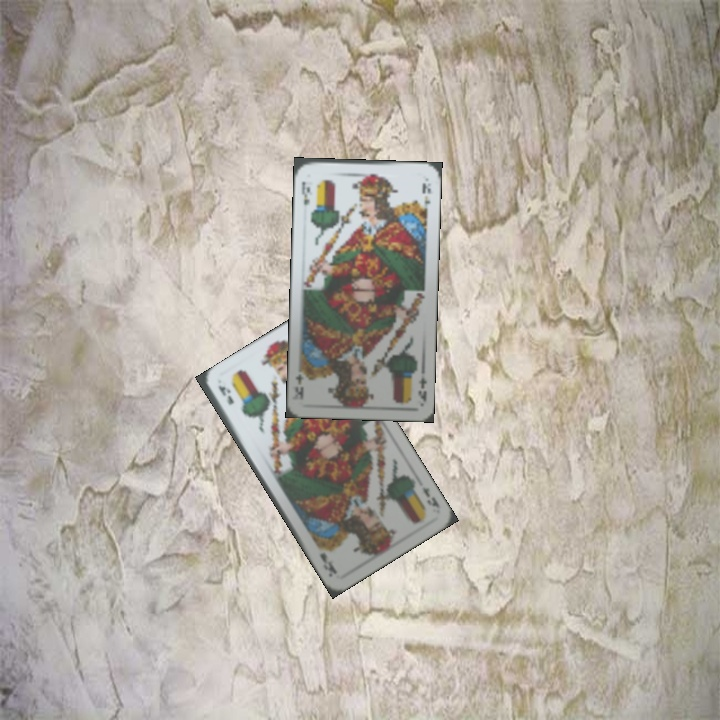EK: (418, 482, 443, 512), (214, 381, 236, 408), (414, 365, 429, 404), (297, 178, 313, 208)
